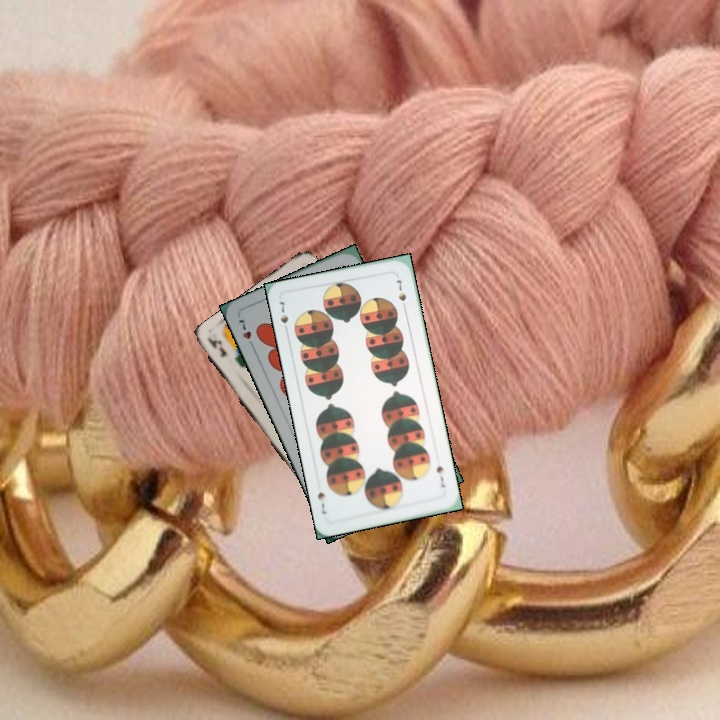EK: (205, 335, 230, 360)
H7: (234, 315, 257, 352)
S7: (275, 297, 291, 336), (432, 462, 448, 490)
